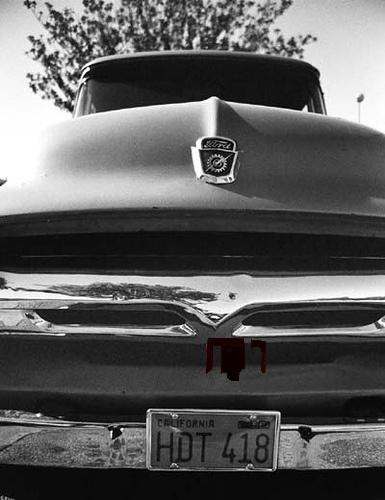tampered: (206, 339, 266, 381)
